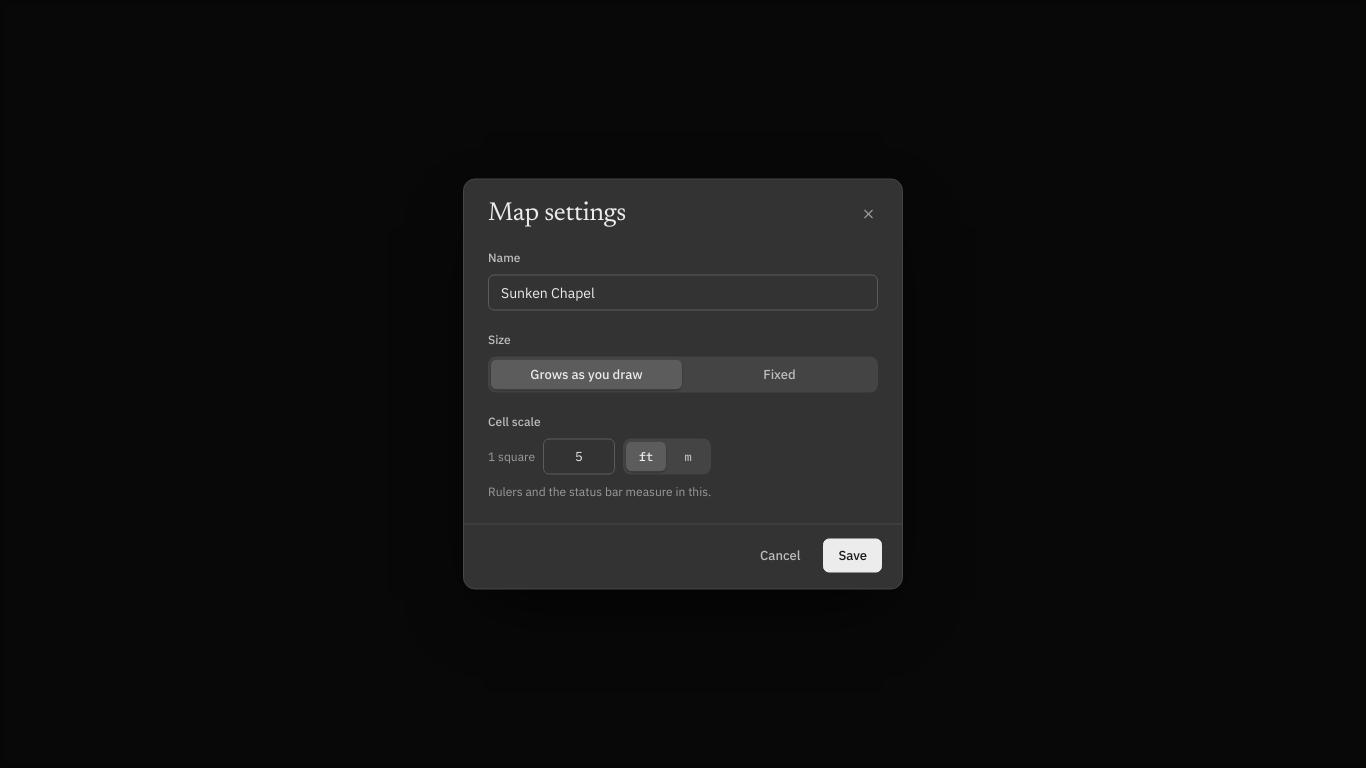
it: MapSettingsModal › refuses zero as a cell scale
This screenshot has width=1366, height=768.
Step 1. Replace the text in the field named "Distance per square" with "0" → (579, 456), box [543,438,615,474]
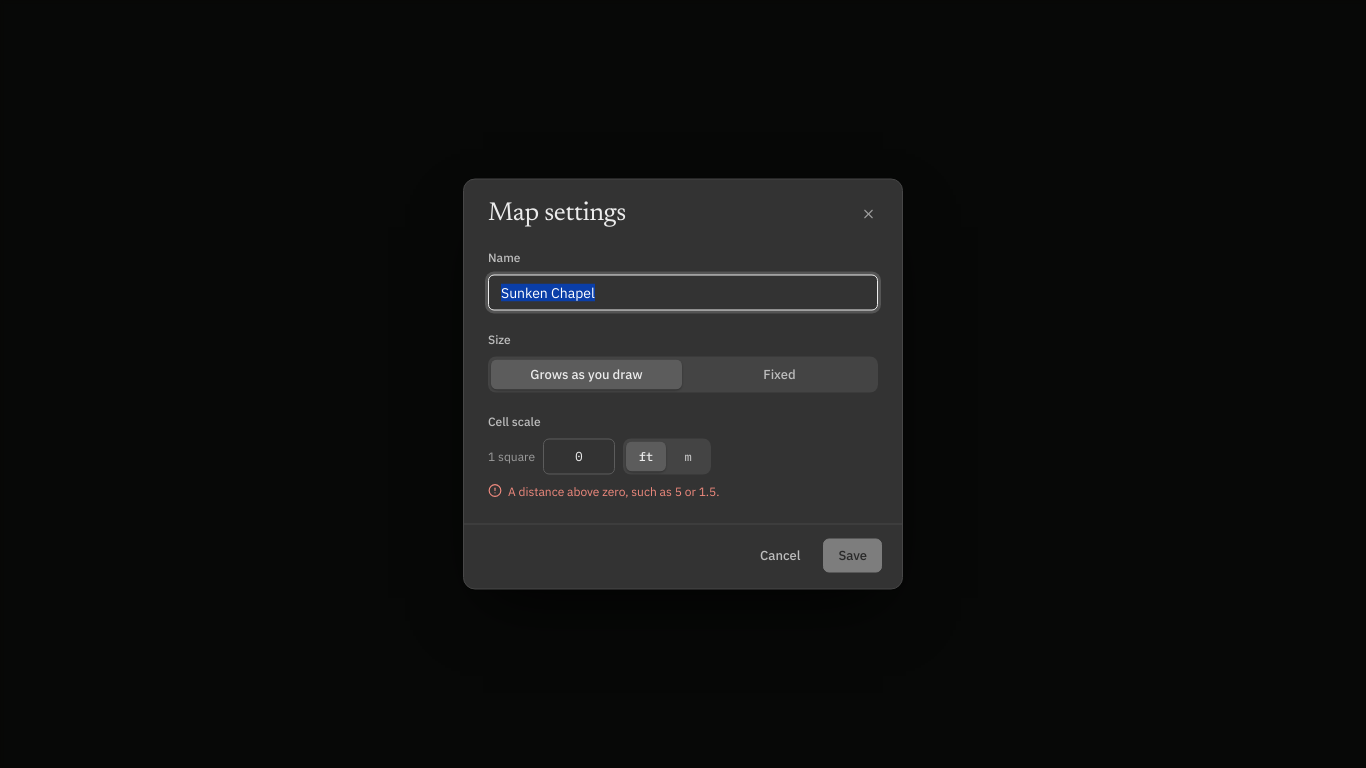
Result: the message shows "above zero" at [508,483,720,498]
Result: the button with test id "v2-map-settings-save" is disabled at [823,538,882,572]
